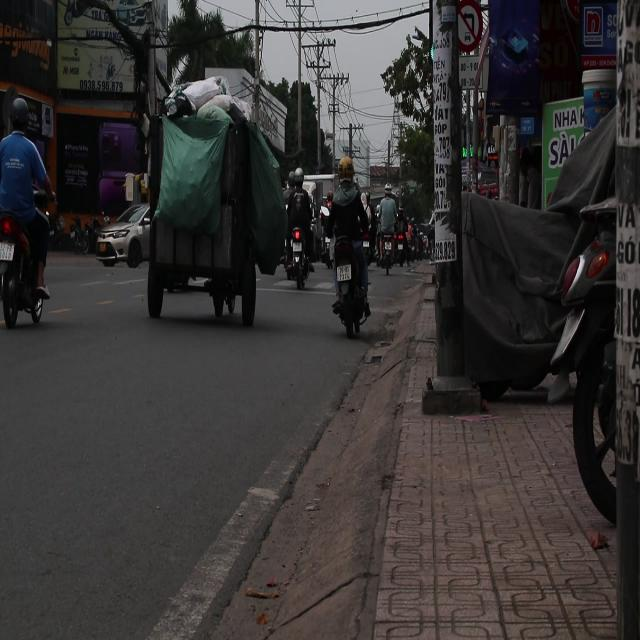car: (97, 204, 154, 268)
motorbike: (0, 202, 45, 327), (335, 238, 379, 335), (288, 217, 318, 303), (68, 216, 95, 254)
